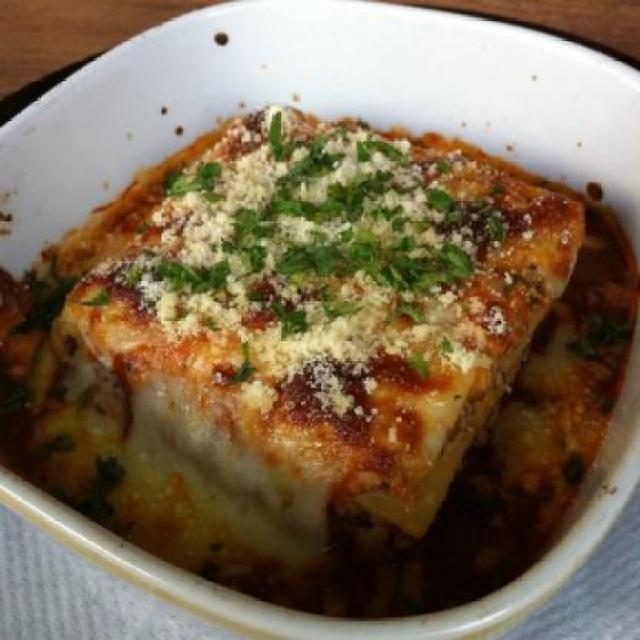Lasagna: (52, 94, 563, 544)
